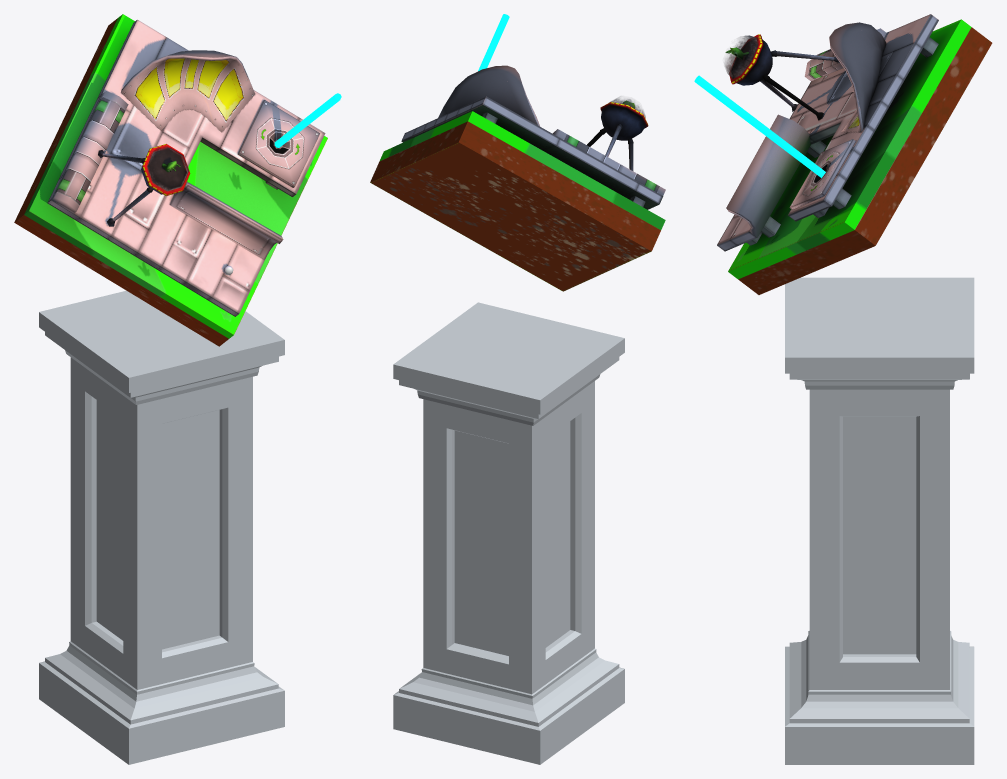
The model's file is land_space.gltf.
3 views of the same model, side by side, from view 1: azimuth 30°, elevation 25°; view 2: azimuth 150°, elevation 25°; view 3: azimuth 270°, elevation 25° (orthographic). The views are drawn at different scales.
Parts seen in each view (by area): view 1: space_land; view 2: space_land; view 3: space_land.
Part boxes in pixels (bbox=[...]): space_land: bbox=[14, 14, 341, 764]; space_land: bbox=[370, 14, 665, 764]; space_land: bbox=[694, 14, 992, 764].
Size of what is drawn, in the model's own units: 1.13 by 2.44 by 0.9285.
3 materials, 3 textured.
